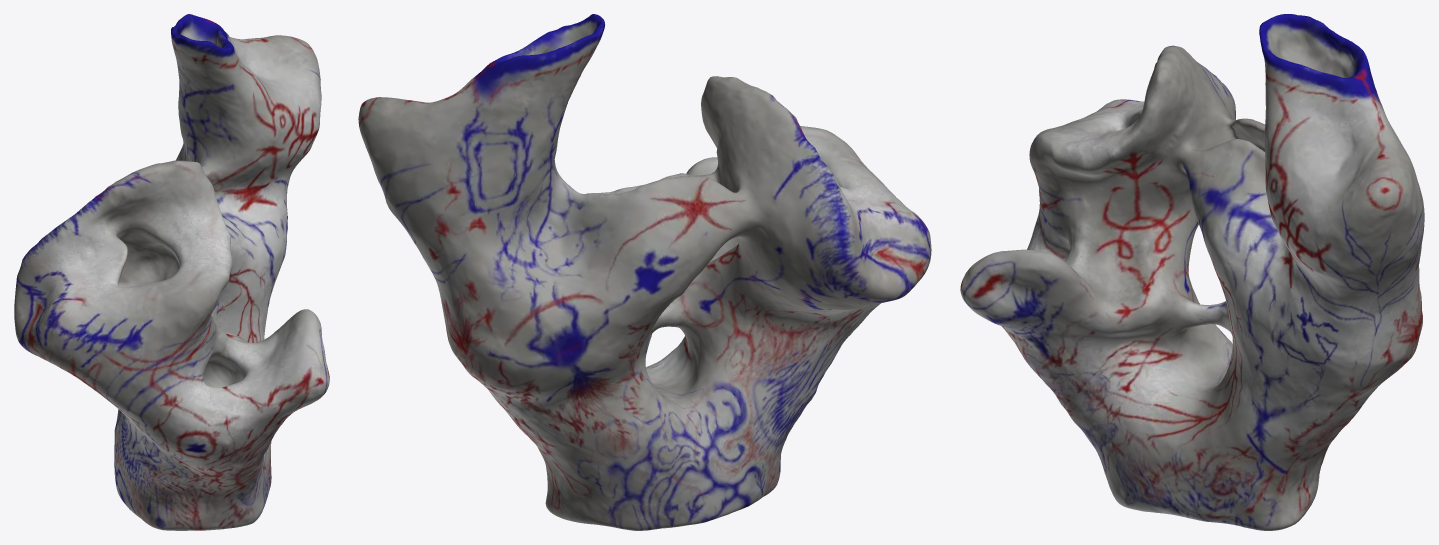
The model's file is vasomostro_def1_3_LightMotion_animation.glb.
The picture shows the model from 3 angles, left to right: view 1: azimuth 30°, elevation 25°; view 2: azimuth 150°, elevation 25°; view 3: azimuth 270°, elevation 25°; orthographic projection. The views are drawn at different scales.
Visible parts, largest first — view 1: vasomostro_ok; view 2: vasomostro_ok; view 3: vasomostro_ok.
Boxes of the visible parts, left/top/right/bottom form: vasomostro_ok: left=14, top=14, right=329, bottom=530; vasomostro_ok: left=358, top=14, right=931, bottom=530; vasomostro_ok: left=960, top=14, right=1424, bottom=530.
Size of the model in its own units: 2.12 by 2.29 by 1.95.
Materials: 1 (1 with a texture image).
